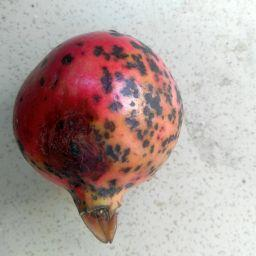pomegranate: (13, 30, 184, 244)
